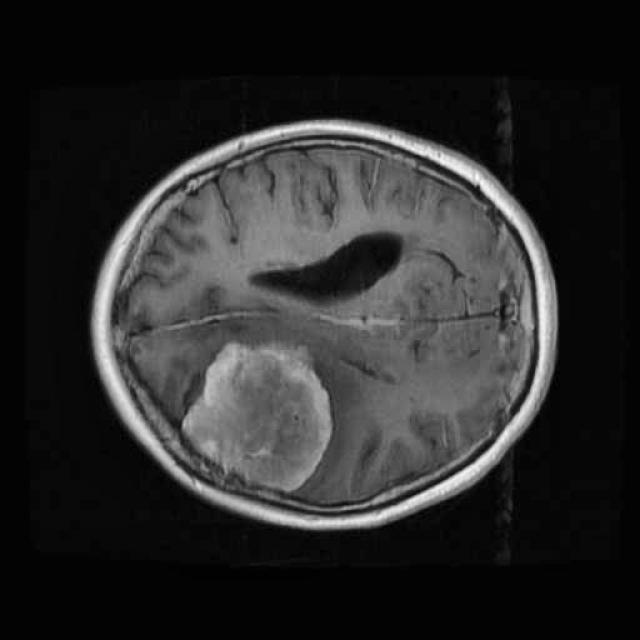Tumor: (171, 322, 344, 504)
